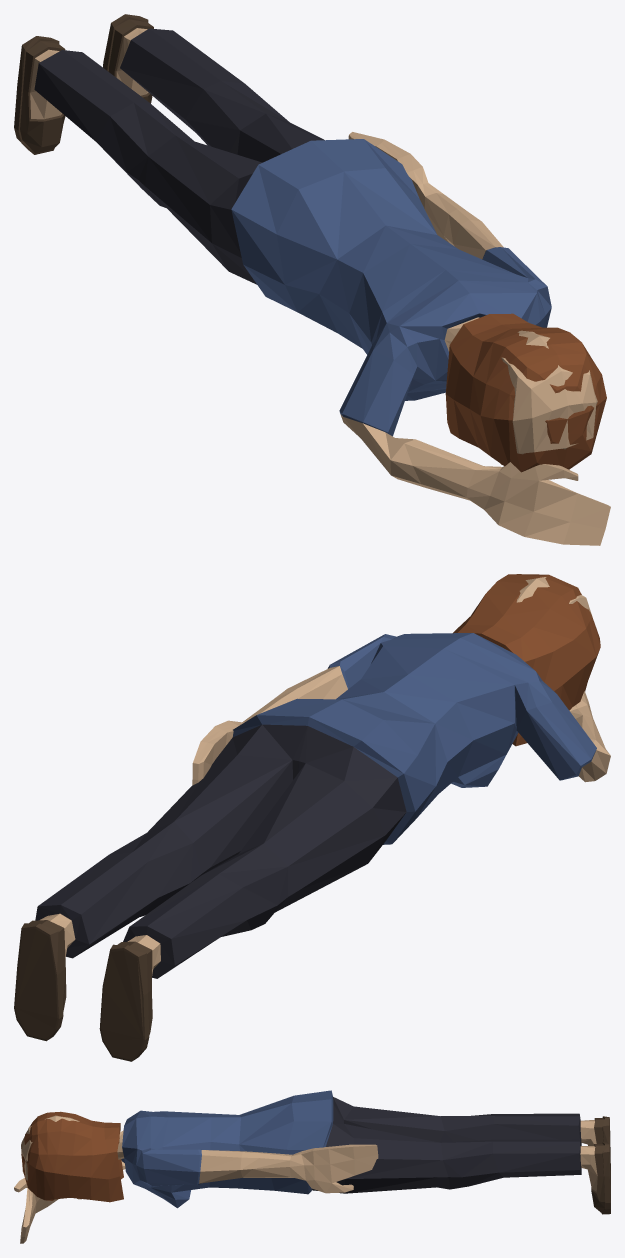
File: woman-covering-eyes.obj
The picture shows the model from 3 angles, top to bottom: view 1: azimuth 30°, elevation 25°; view 2: azimuth 150°, elevation 25°; view 3: azimuth 270°, elevation 25°; orthographic projection. The views are drawn at different scales.
Parts seen in each view (by area): view 1: woman-covering-eyes; view 2: woman-covering-eyes; view 3: woman-covering-eyes.
Boxes of the visible parts, x1,y1,x2,y2 form: woman-covering-eyes: [14, 14, 610, 545]; woman-covering-eyes: [14, 574, 610, 1061]; woman-covering-eyes: [14, 1090, 610, 1243].
Size of the model in its own units: 17.98 by 16.57 by 66.36.
